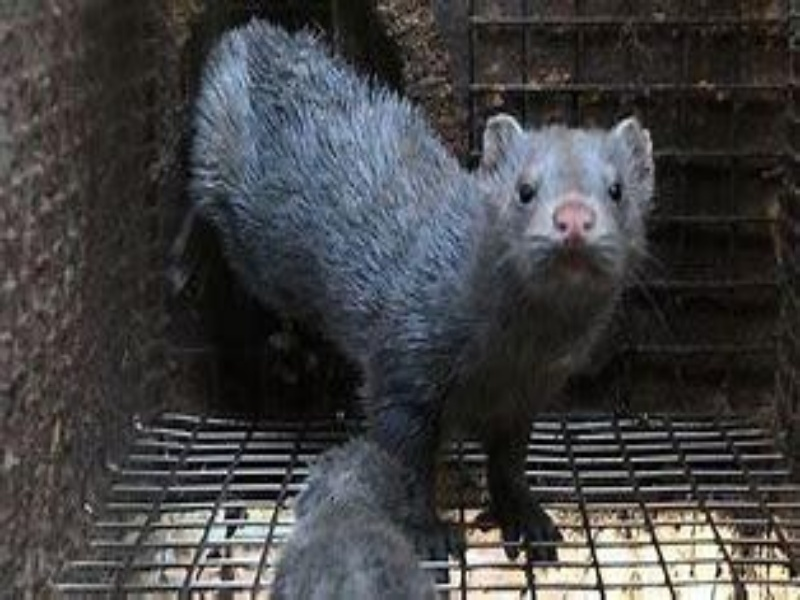minkish: (185, 24, 660, 563)
